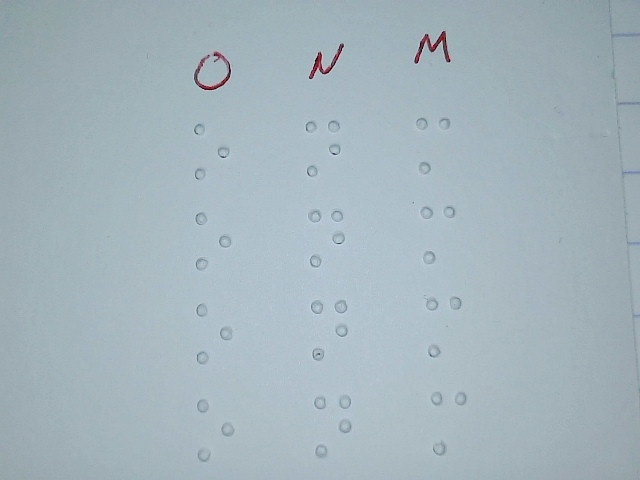M: (412, 114, 455, 177), (418, 203, 458, 266), (423, 295, 463, 358), (428, 391, 468, 454)
N: (301, 116, 344, 179), (305, 207, 348, 270), (307, 297, 350, 360), (311, 394, 354, 457)
O: (190, 120, 233, 183), (191, 209, 234, 272), (193, 302, 236, 365), (193, 398, 236, 461)
